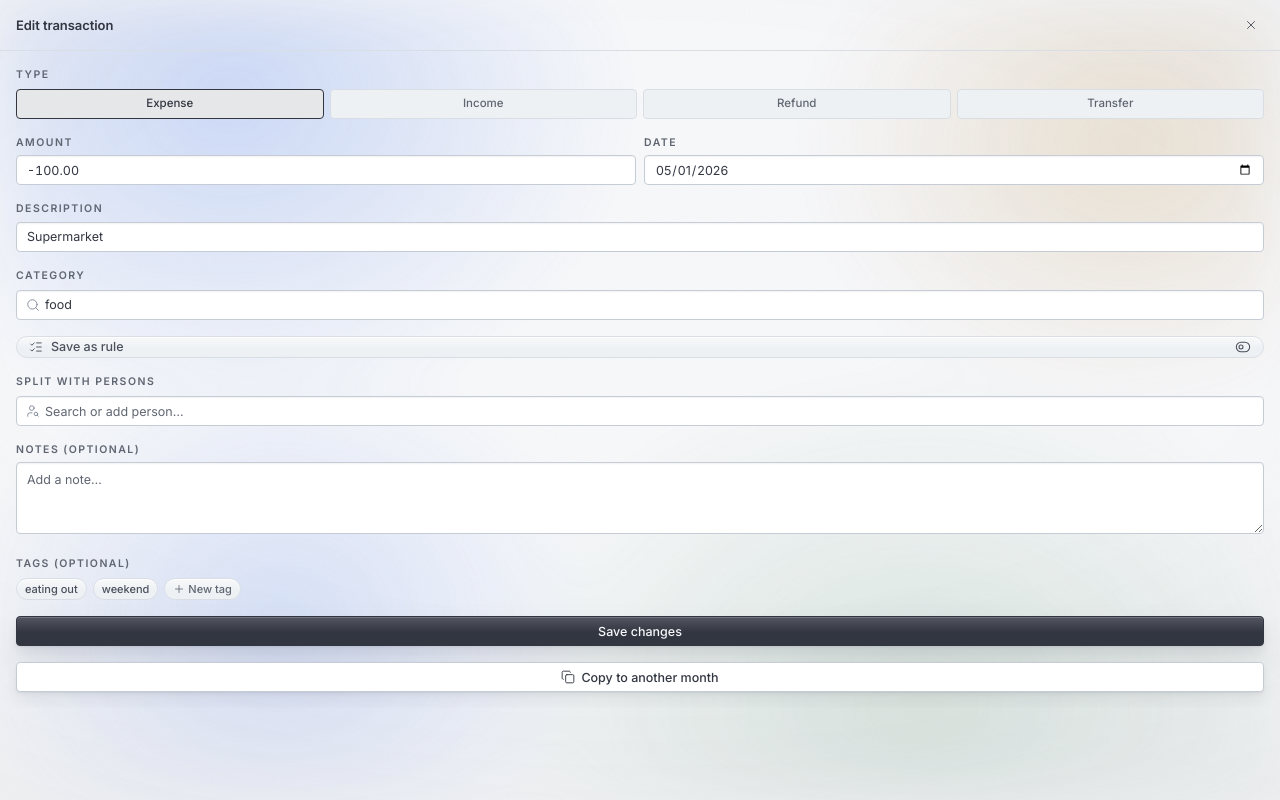
Test: EditPanel "Save as rule" › sends save_mapping when the toggle is on, letting the backend teach the rule
Click the button "Save as rule" at (87, 347), box [16, 336, 1264, 358]
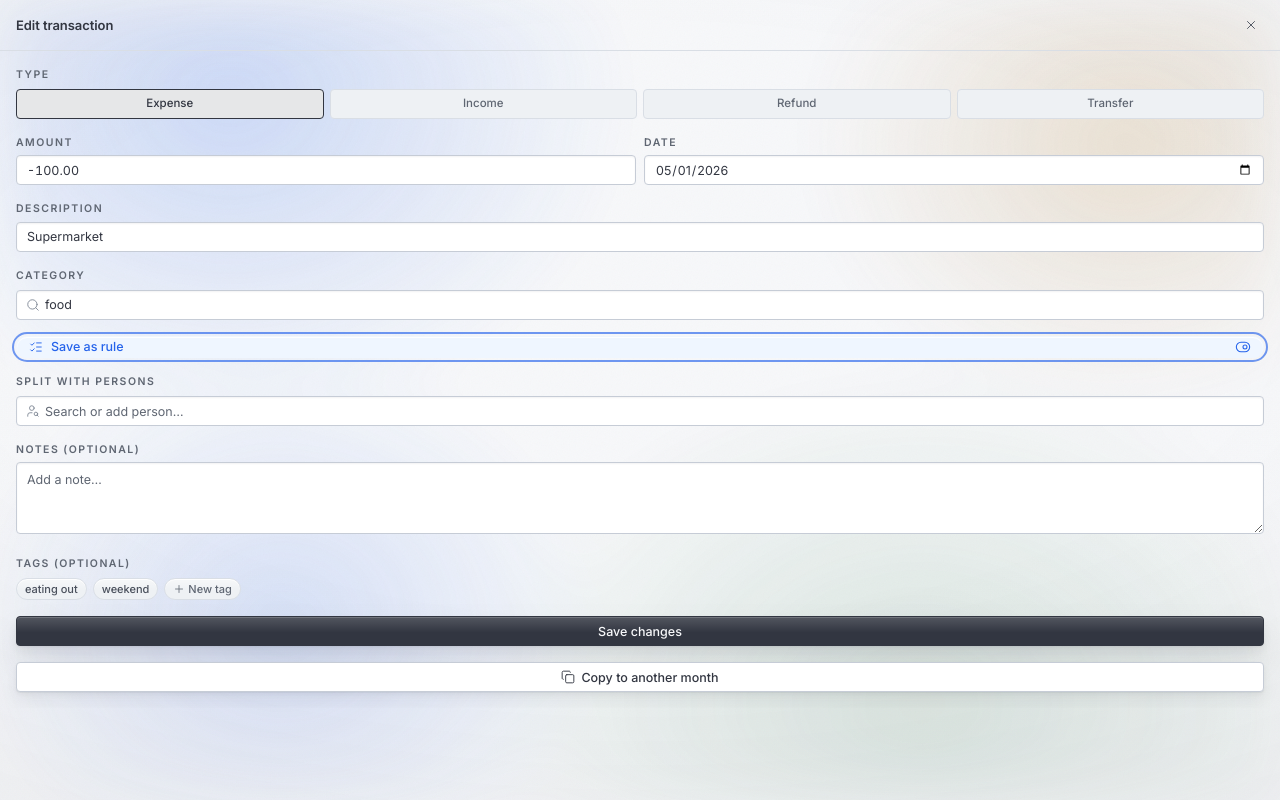
Type "from now on" into the text box labelled "Notes (optional)" at (640, 498), box [16, 462, 1264, 534]
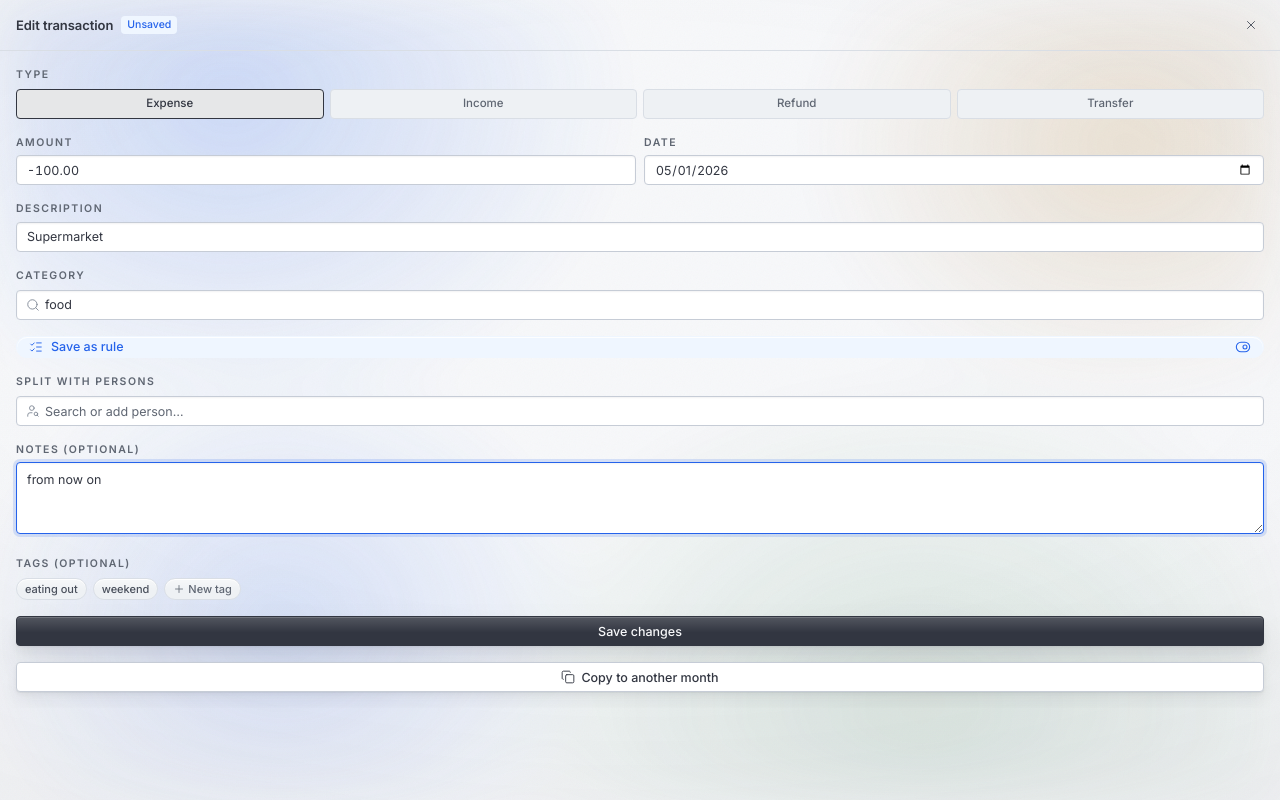
Click the button "Save changes" at (640, 631), box [16, 616, 1264, 646]
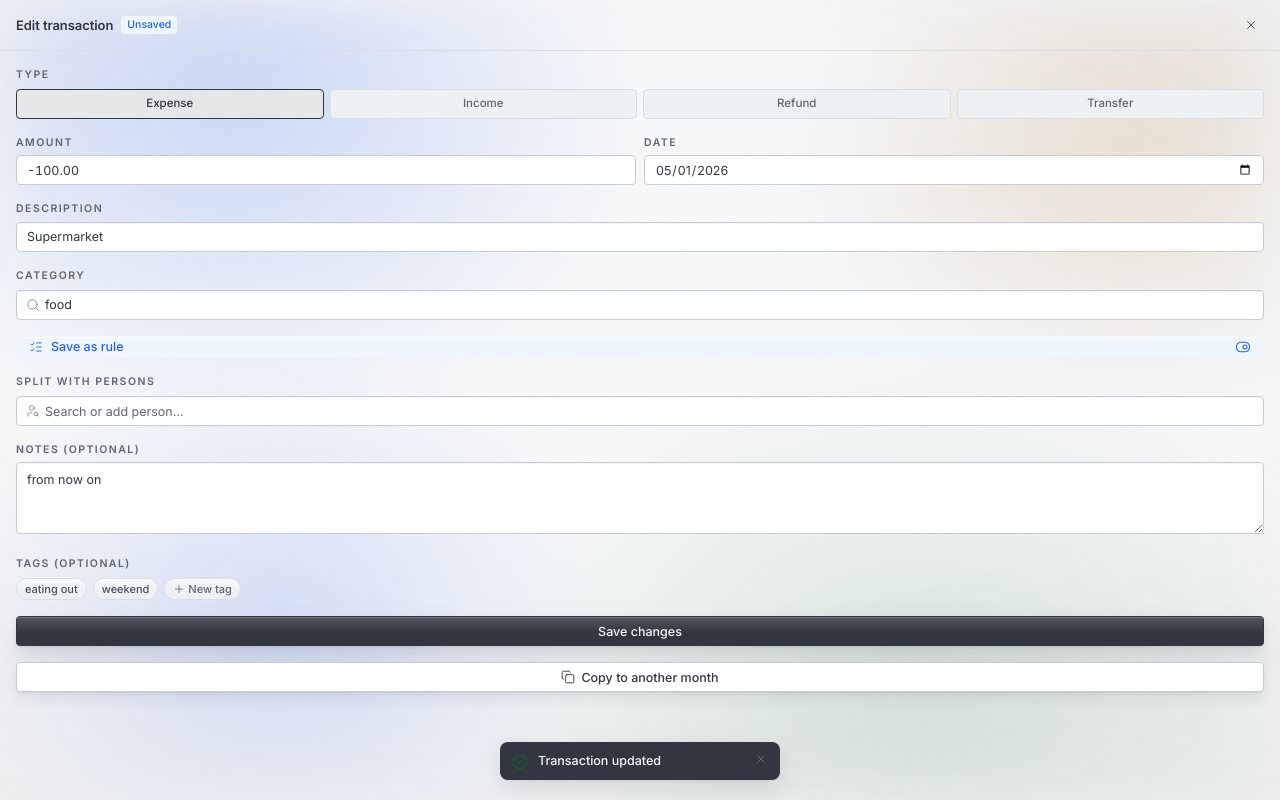
Expected: the text "Transaction updated" is shown, [538, 753, 661, 768]
